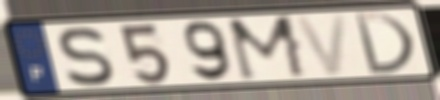5: (115, 20, 173, 85)
9: (182, 19, 234, 83)
D: (350, 11, 419, 76)
M: (224, 13, 311, 83)
S: (56, 25, 117, 88)
V: (291, 12, 350, 78)
